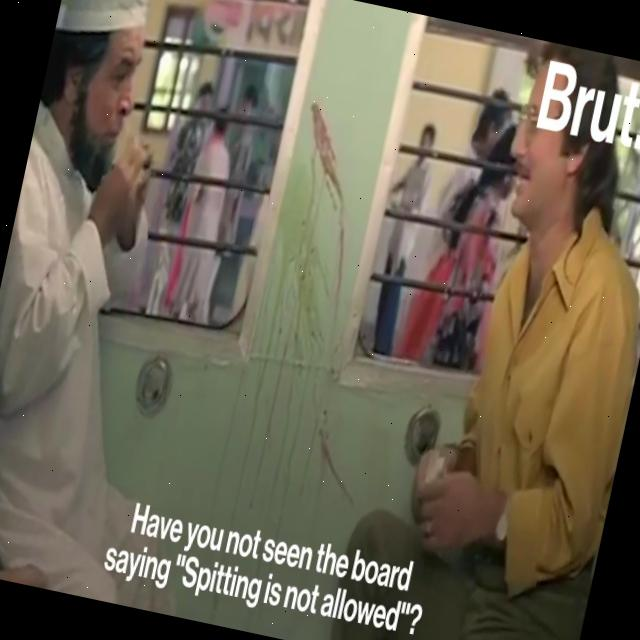spit: (222, 87, 417, 498)
